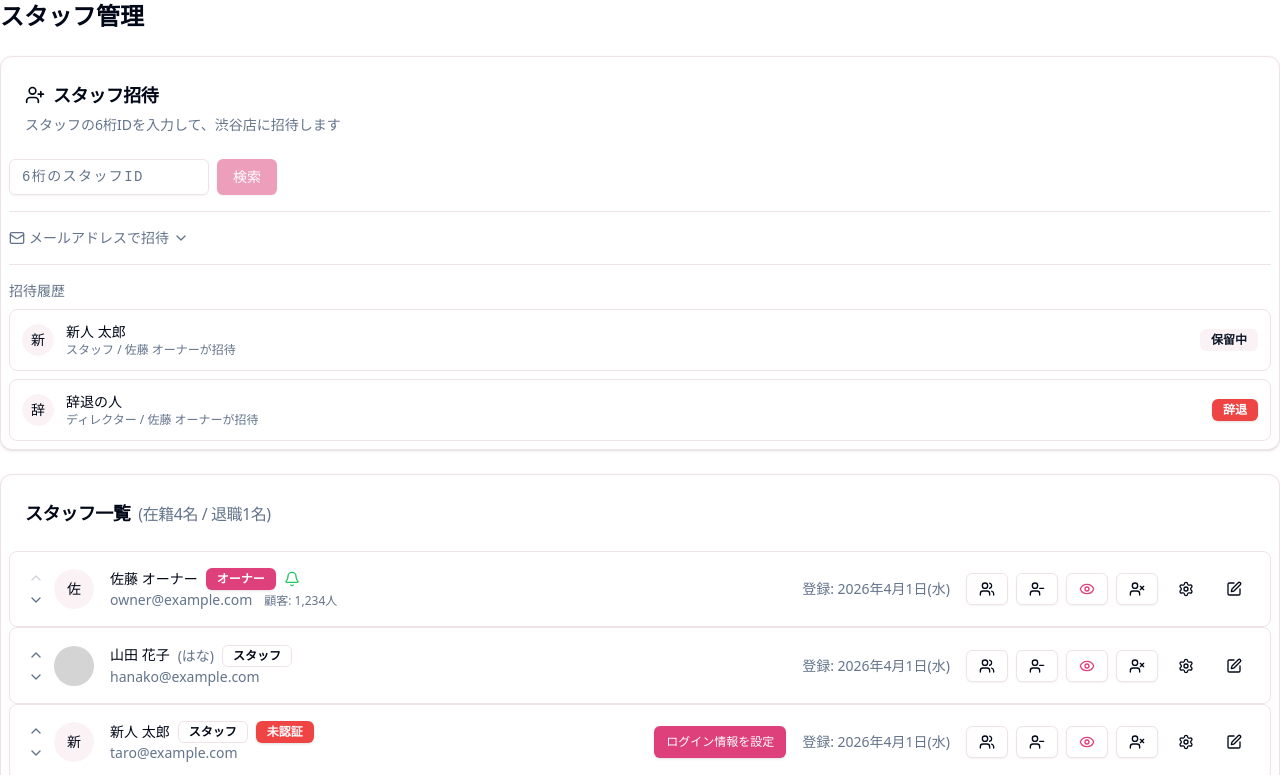
Test case: Staff (スタッフ管理) › スタッフ招待 sends the invitation for the current shop and shows the link
expect the text "スタッフ招待" is shown: met, box x1=25 y1=83 x2=158 y2=107
expect the text "スタッフの6桁IDを入力して、渋谷店に招待します" is shown: met, box x1=25 y1=115 x2=341 y2=134
Click the button "メールアドレスで招待": [99, 238] box x1=9 y1=228 x2=189 y2=248
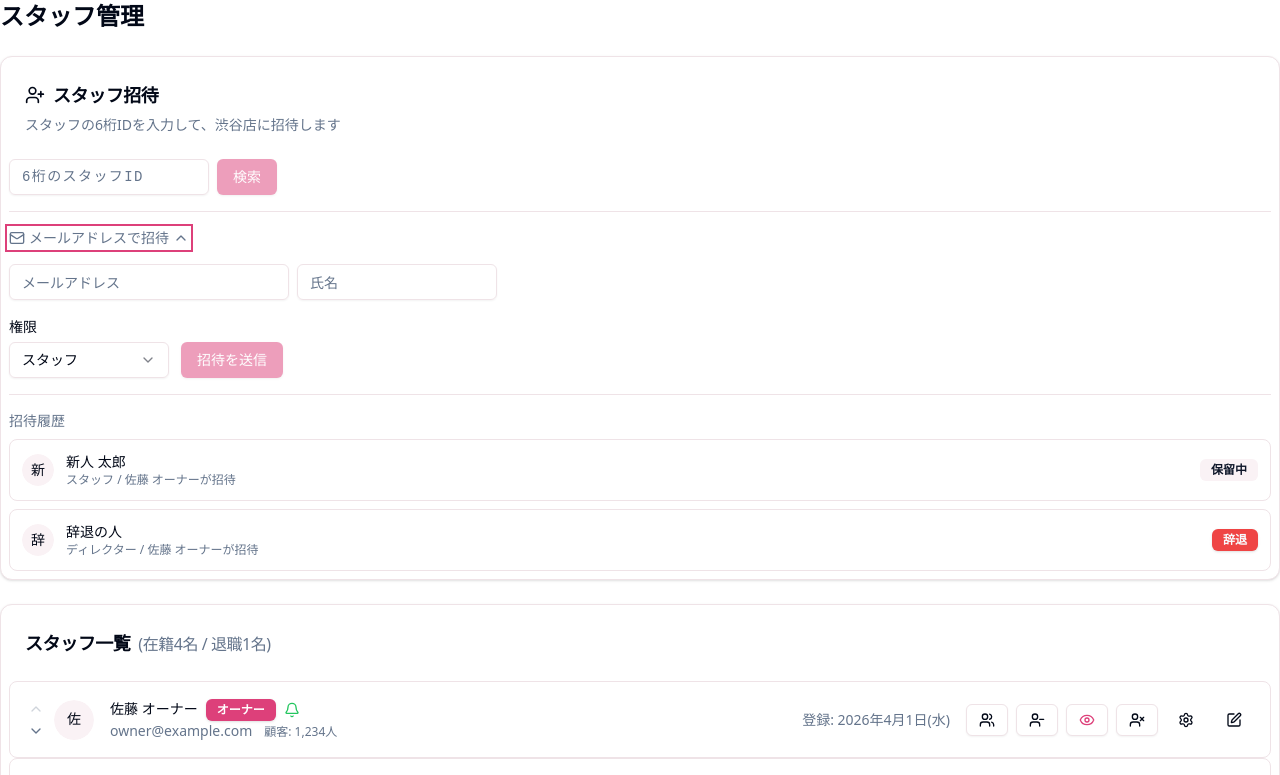
expect the button "招待を送信" is disabled: met, box x1=181 y1=342 x2=283 y2=378
In the field named "招待するメールアドレス": [149, 282] box x1=9 y1=264 x2=289 y2=300, type "new@example.com"
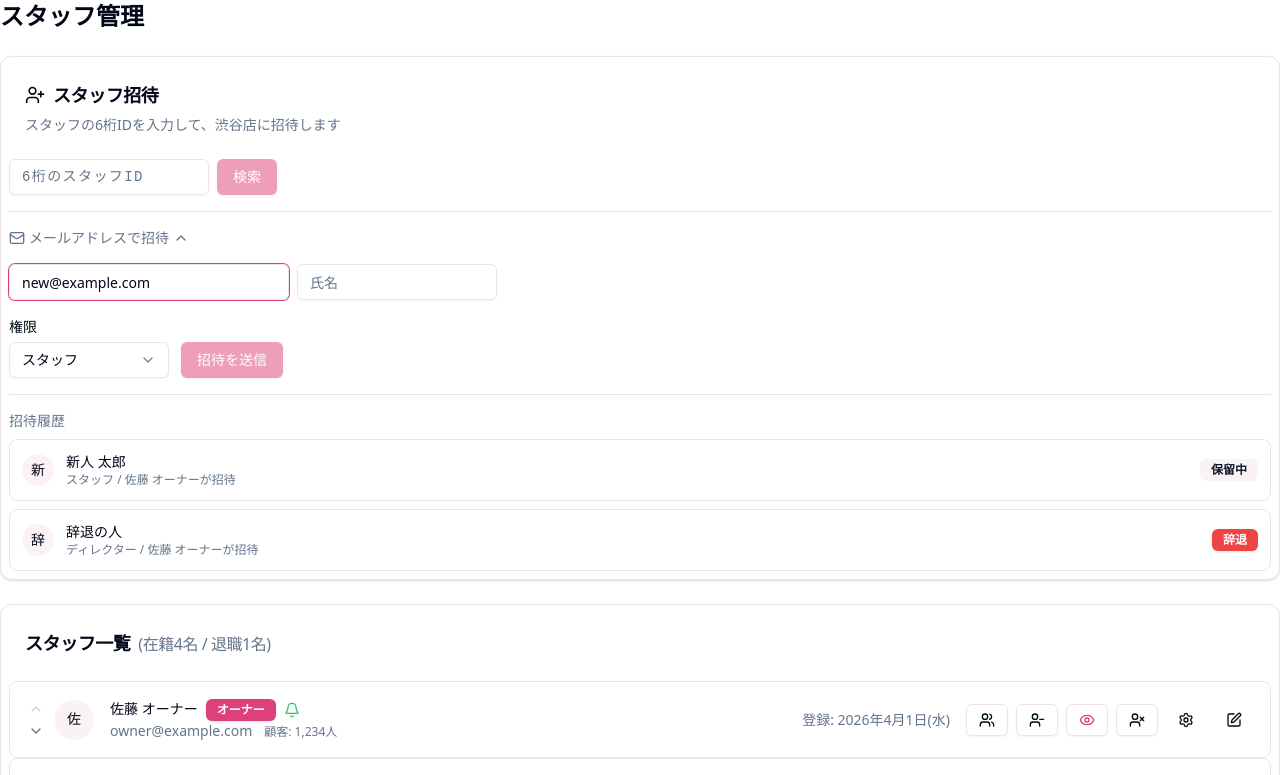
In the field named "招待するスタッフの氏名": [397, 282] box x1=297 y1=264 x2=497 y2=300, type "新規 花"
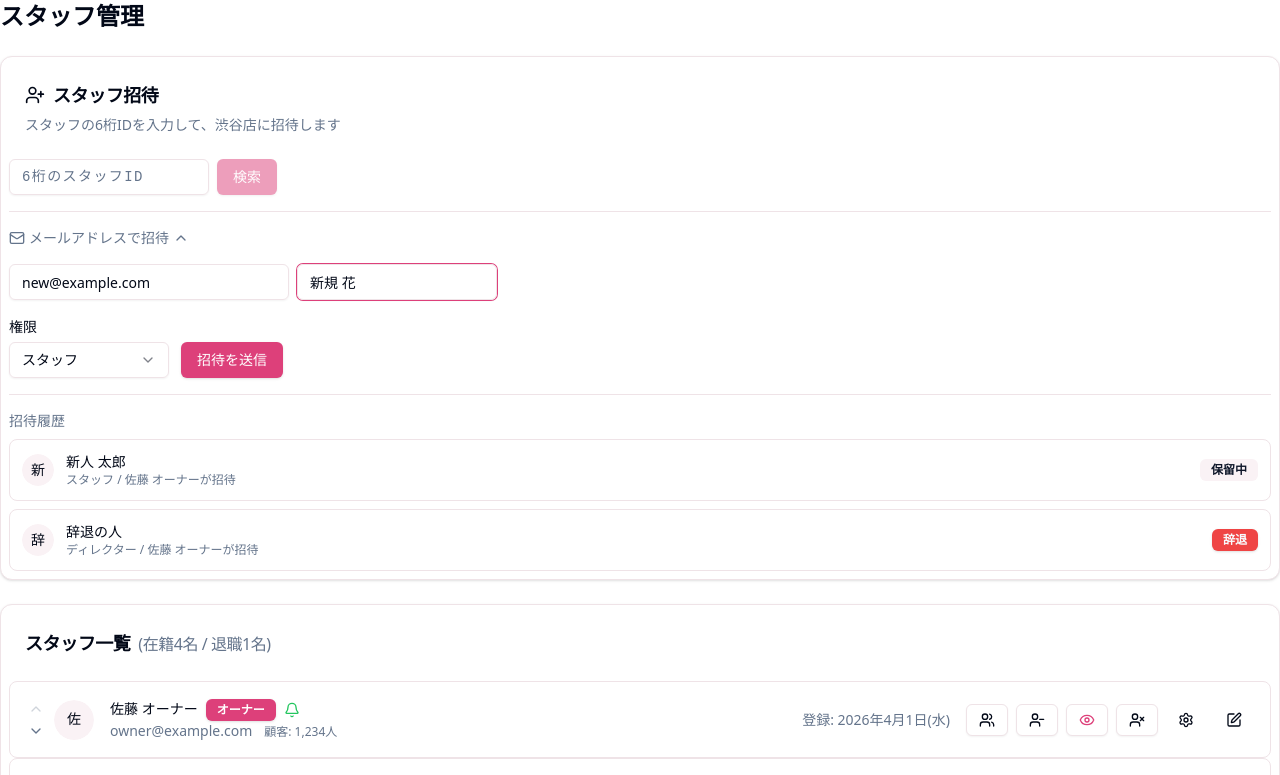
Click the dropdown named "招待する権限": [89, 360] box x1=9 y1=342 x2=169 y2=378
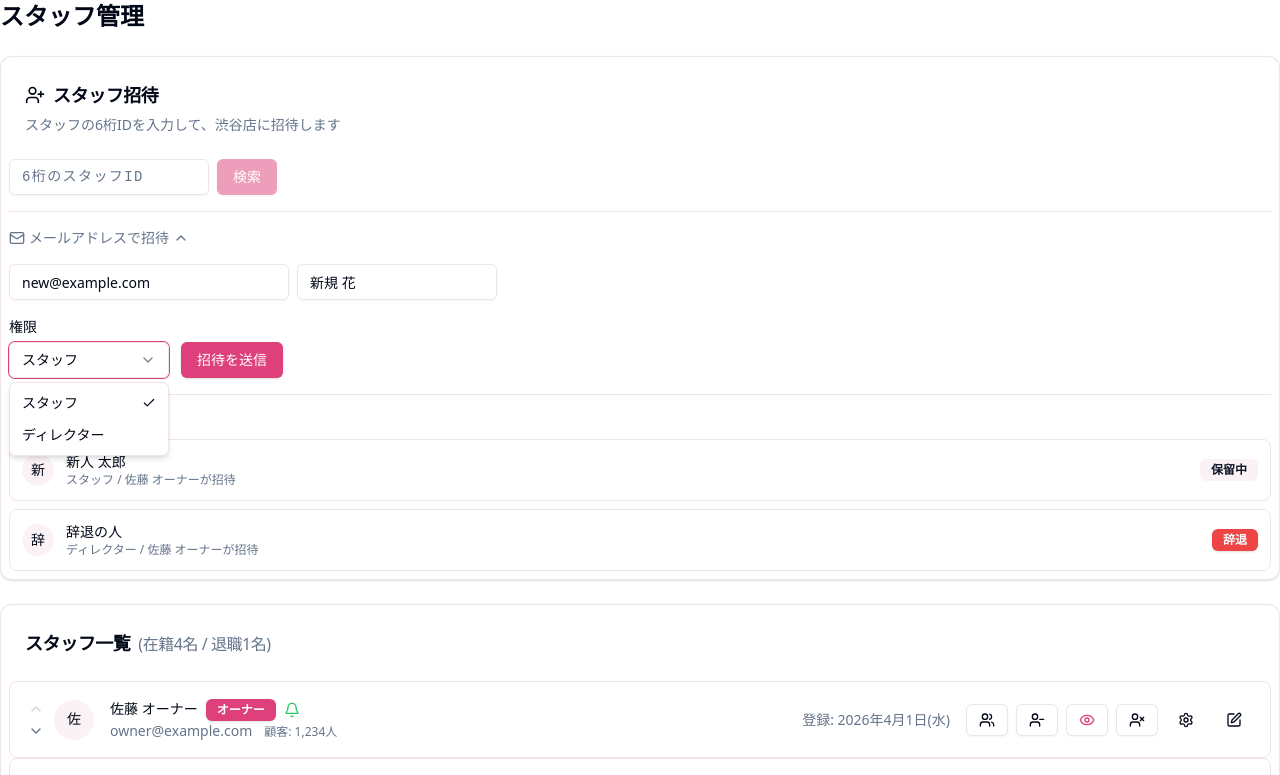
Click the option "ディレクター": [63, 435] box x1=22 y1=425 x2=104 y2=444
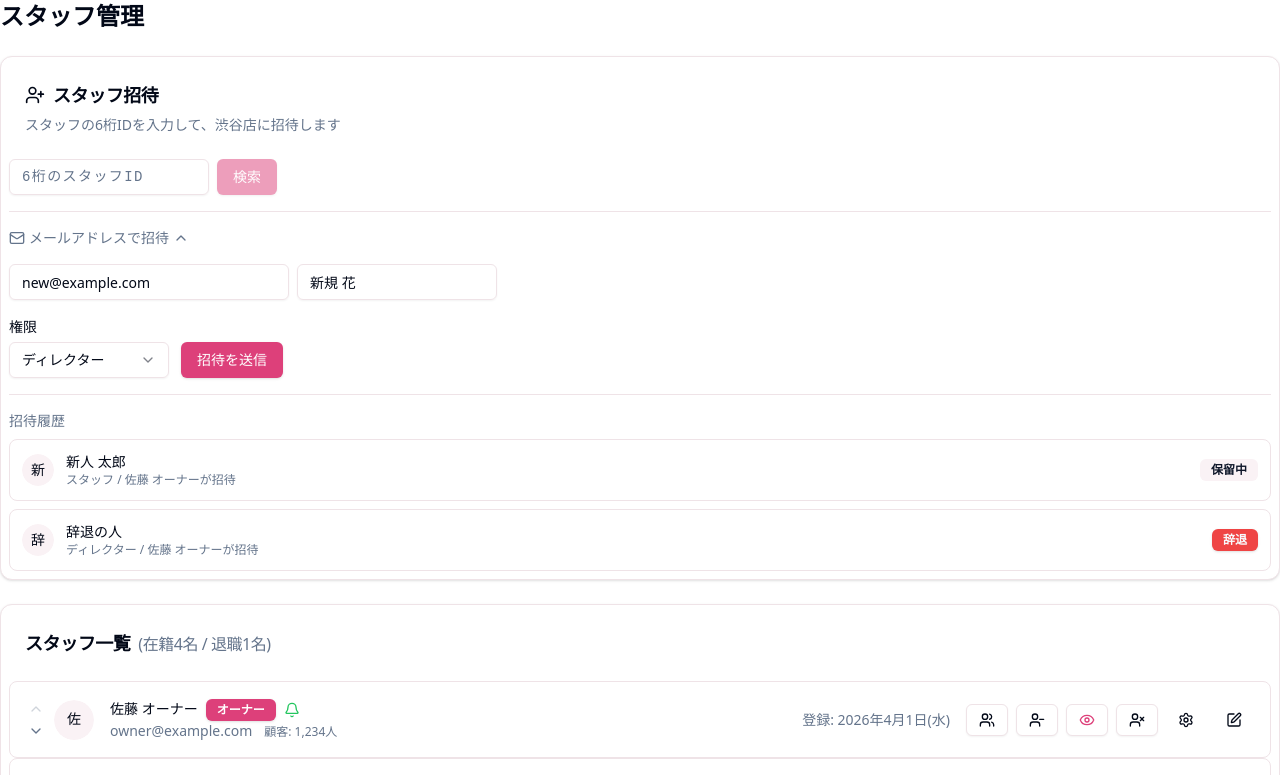
Click the button "招待を送信": [232, 360] box x1=181 y1=342 x2=283 y2=378
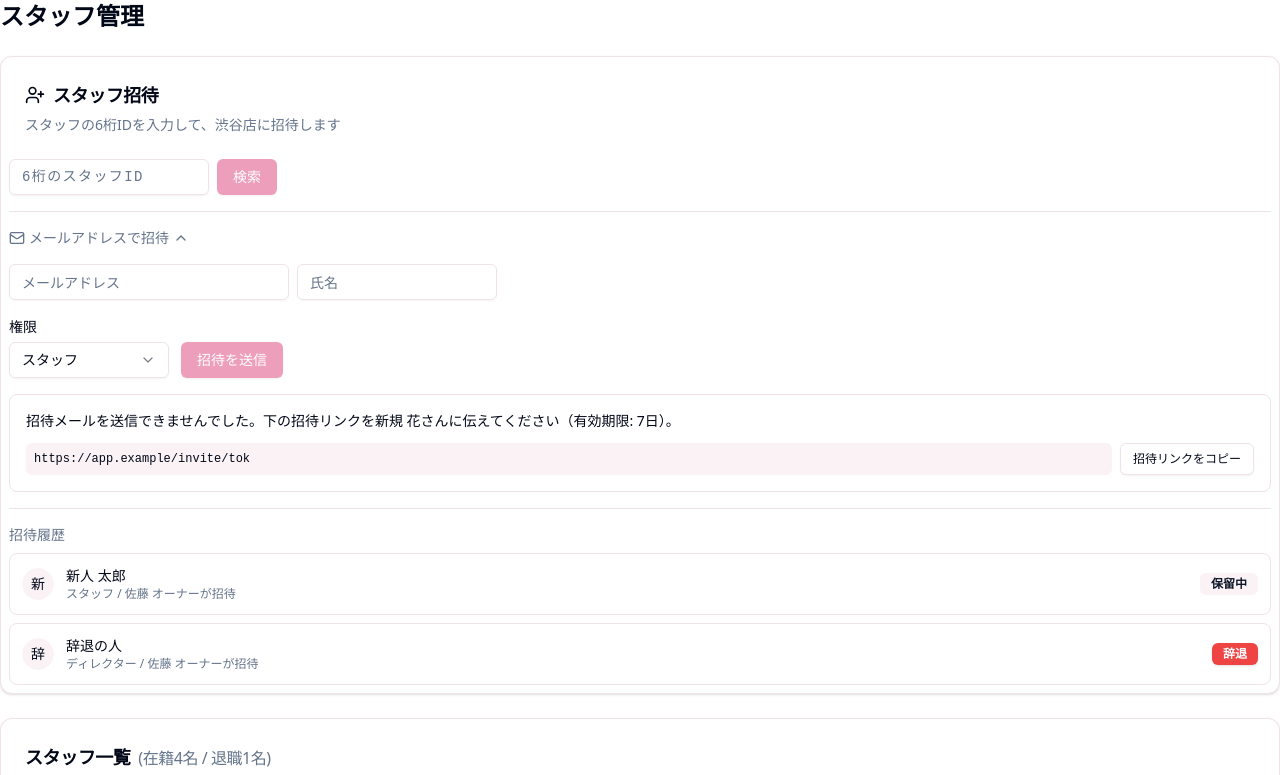
expect the text "招待メールを送信できませんでした" is shown: met, box x1=26 y1=411 x2=680 y2=430
expect the text "https://app.example/invite/tok" is shown: met, box x1=26 y1=443 x2=1112 y2=475
